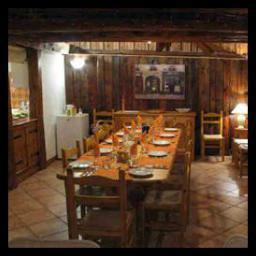Electrodomestico: (55, 116, 89, 163)
Puerta: (8, 53, 39, 183)
